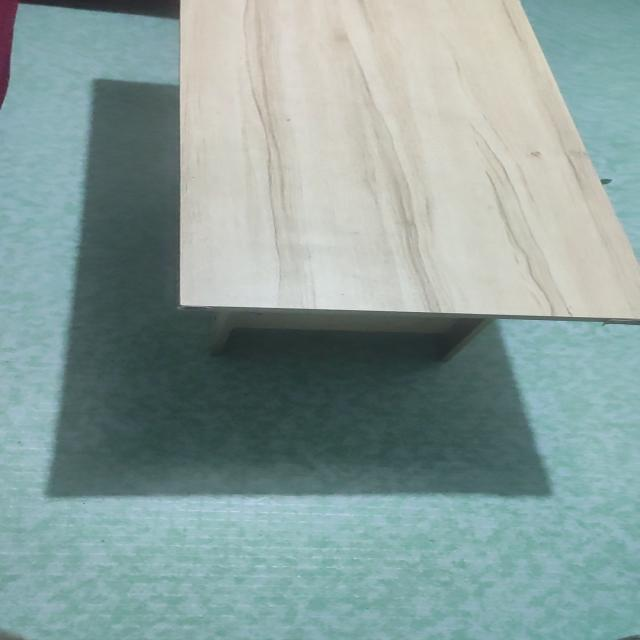table: (174, 0, 640, 376)
